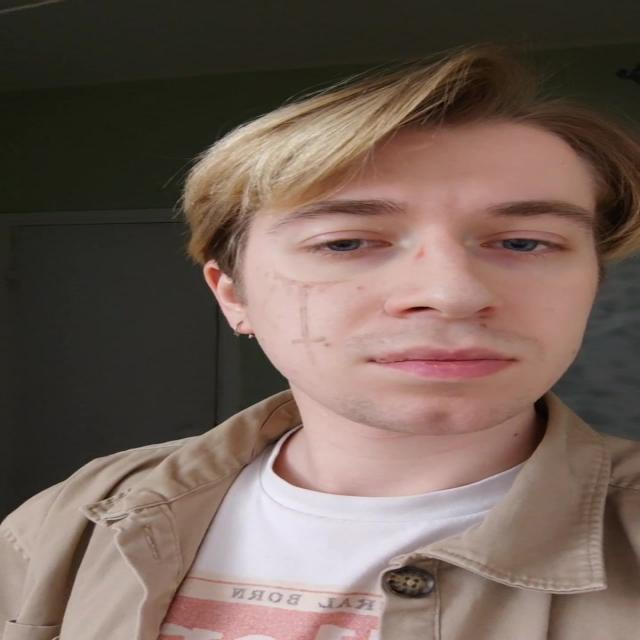earlobe: (225, 312, 255, 335)
eye: (479, 234, 569, 257), (305, 236, 399, 254)
nose: (385, 307, 503, 347)
wholeear: (116, 236, 166, 314)
